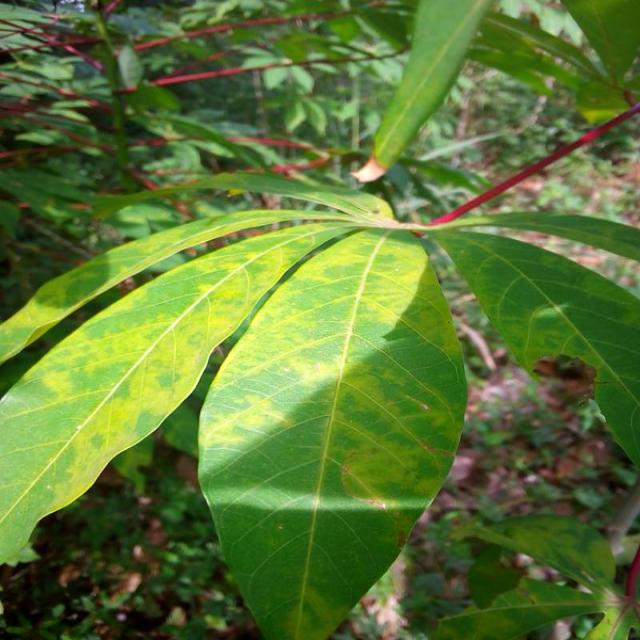cassava leaf: (1, 209, 468, 638)
